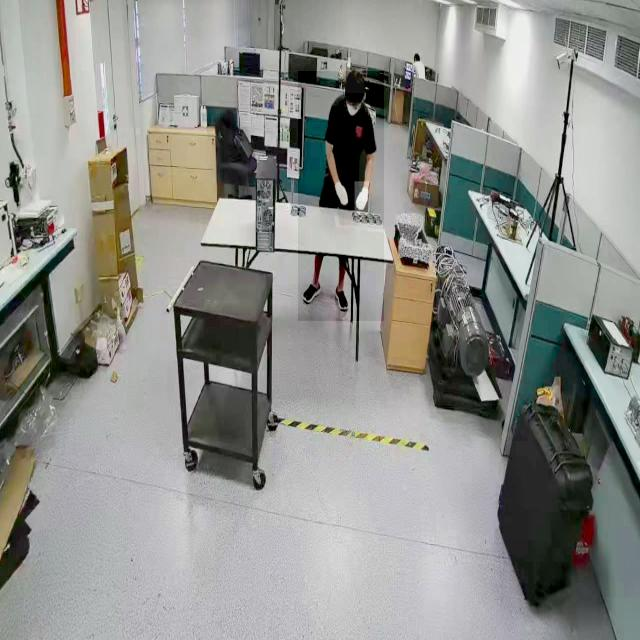face_mask: (341, 96, 363, 119)
hand_glove: (330, 176, 350, 211), (354, 181, 370, 216)
head_nohelmet: (345, 68, 365, 95), (413, 52, 419, 58)
person: (298, 71, 384, 322)
shoes: (300, 276, 322, 306), (334, 283, 350, 312)
